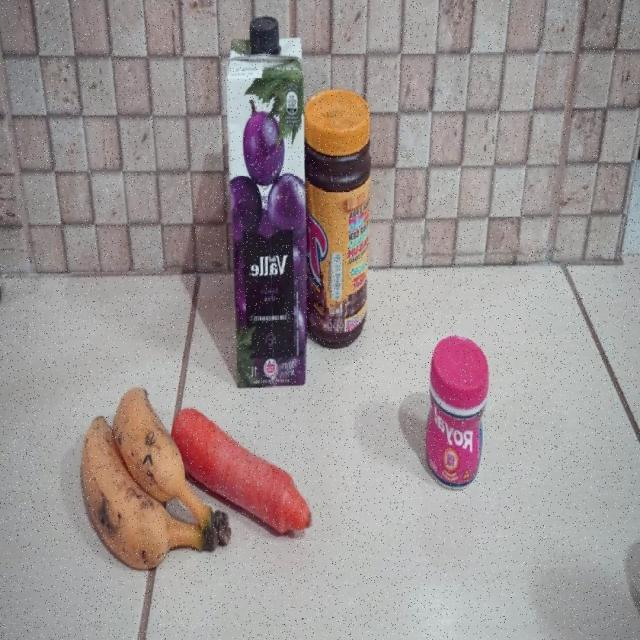Banana: (80, 388, 230, 570)
Carrot: (172, 408, 312, 534)
ChocolatePowder: (304, 88, 378, 352)
Yeast: (424, 336, 489, 488)
